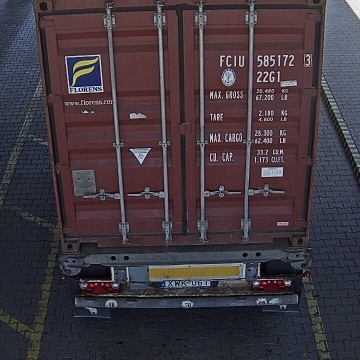serial_id: (220, 54, 312, 66)
